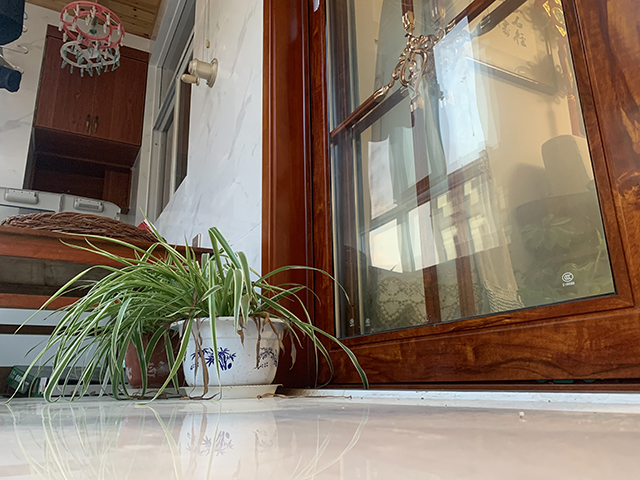table: (1, 225, 149, 341)
